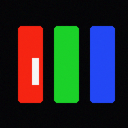4 line_v: (32, 58, 38, 84)
